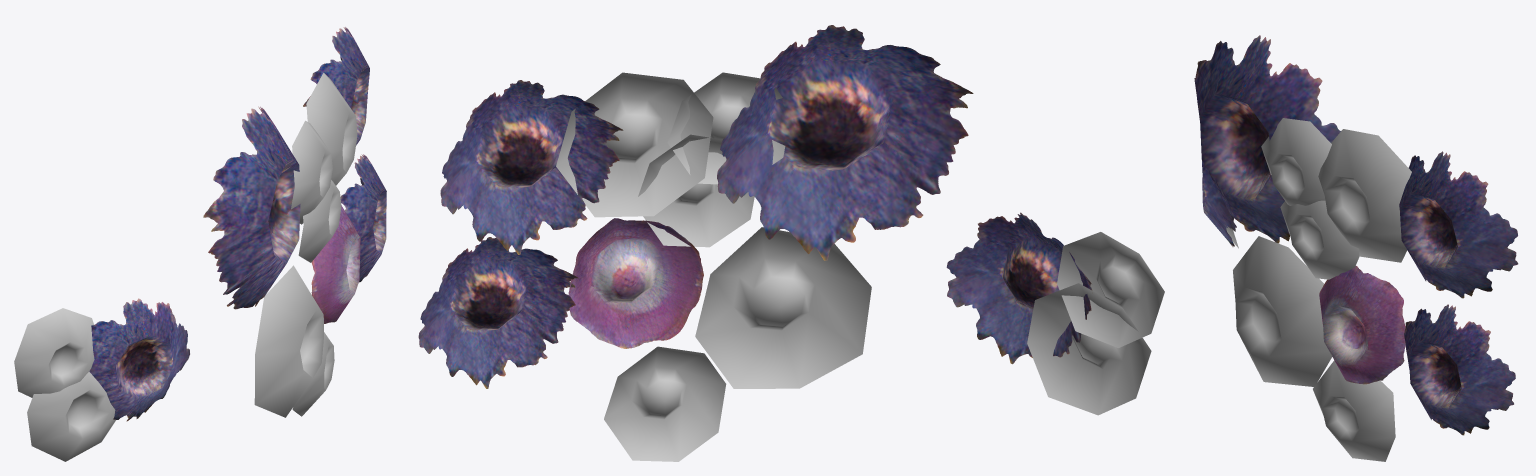
File: Right_Flower6.fbx
The picture shows the model from 3 angles, left to right: view 1: azimuth 30°, elevation 25°; view 2: azimuth 150°, elevation 25°; view 3: azimuth 270°, elevation 25°; orthographic projection. The views are drawn at different scales.
Parts seen in each view (by area): view 1: Circle.1924, Circle.1923, Circle.1938, Circle.1912, Circle.1913, Circle.1937, Circle.1936, Circle.1911, Circle.1926, Circle.1920, Circle.1921, Circle.1922; view 2: Circle.1924, Circle.1938, Circle.1926, Circle.1936, Circle.1937, Circle.1911, Circle.1923, Circle.1922, Circle.1913, Circle.1912, Circle.1921, Circle.1920; view 3: Circle.1924, Circle.1926, Circle.1938, Circle.1936, Circle.1911, Circle.1937, Circle.1922, Circle.1920, Circle.1921, Circle.1923.
Boxes of the visible parts, left/top/right/bottom form: Circle.1924: left=203, top=106, right=300, bottom=309; Circle.1923: left=89, top=298, right=189, bottom=421; Circle.1938: left=254, top=265, right=323, bottom=417; Circle.1912: left=14, top=308, right=94, bottom=397; Circle.1913: left=27, top=371, right=115, bottom=461; Circle.1937: left=311, top=205, right=360, bottom=323; Circle.1936: left=340, top=154, right=386, bottom=282; Circle.1911: left=306, top=73, right=357, bottom=185; Circle.1926: left=303, top=27, right=369, bottom=145; Circle.1920: left=291, top=120, right=332, bottom=224; Circle.1921: left=298, top=180, right=341, bottom=262; Circle.1922: left=292, top=332, right=334, bottom=416; Circle.1924: left=717, top=25, right=973, bottom=260; Circle.1938: left=695, top=227, right=871, bottom=388; Circle.1926: left=440, top=80, right=623, bottom=254; Circle.1936: left=418, top=237, right=578, bottom=388; Circle.1937: left=568, top=218, right=703, bottom=348; Circle.1911: left=556, top=72, right=713, bottom=217; Circle.1923: left=946, top=212, right=1092, bottom=364; Circle.1922: left=604, top=346, right=726, bottom=461; Circle.1913: left=1027, top=283, right=1151, bottom=415; Circle.1912: left=1057, top=232, right=1164, bottom=347; Circle.1921: left=638, top=134, right=754, bottom=247; Circle.1920: left=667, top=72, right=785, bottom=184; Circle.1924: left=1194, top=35, right=1340, bottom=243; Circle.1926: left=1399, top=151, right=1518, bottom=298; Circle.1938: left=1233, top=236, right=1332, bottom=386; Circle.1936: left=1404, top=304, right=1515, bottom=435; Circle.1911: left=1318, top=129, right=1411, bottom=262; Circle.1937: left=1319, top=266, right=1405, bottom=384; Circle.1922: left=1313, top=360, right=1395, bottom=461; Circle.1920: left=1261, top=118, right=1331, bottom=205; Circle.1921: left=1280, top=200, right=1359, bottom=279; Circle.1923: left=1202, top=160, right=1236, bottom=246.
Bounding box in the file's own units: 64.1 × 46.58 × 35.92.
